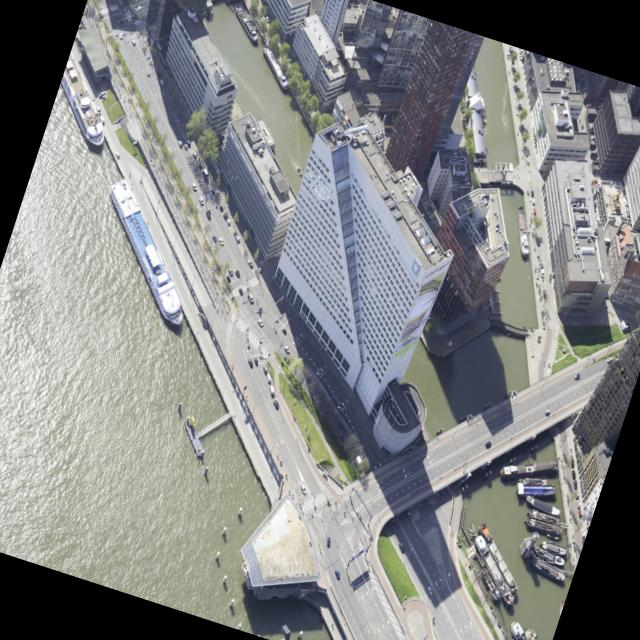large-vehicle: (353, 454, 365, 472), (201, 167, 210, 180), (95, 105, 101, 116)
ship: (107, 173, 187, 336), (476, 518, 520, 599), (473, 531, 516, 611), (499, 457, 561, 481), (262, 43, 290, 93), (233, 2, 260, 48), (529, 555, 567, 586), (524, 494, 562, 519), (254, 117, 278, 155), (532, 544, 567, 570), (523, 516, 563, 538), (480, 566, 502, 604), (516, 205, 530, 259), (515, 483, 558, 500), (527, 508, 562, 527), (539, 540, 568, 558), (518, 477, 549, 487), (244, 11, 258, 33), (546, 532, 560, 542), (296, 166, 303, 177), (470, 536, 478, 541), (470, 533, 477, 537), (511, 636, 515, 640)
small-vehicle: (247, 292, 255, 305), (398, 542, 406, 554), (425, 308, 432, 321), (268, 384, 275, 396), (312, 395, 320, 405), (334, 569, 341, 580), (300, 484, 307, 495), (272, 399, 279, 410), (98, 90, 106, 99), (198, 196, 205, 206), (191, 182, 198, 192), (218, 236, 225, 246), (283, 355, 290, 365), (227, 267, 234, 277), (257, 318, 264, 328), (283, 345, 290, 355), (247, 357, 253, 368), (580, 528, 586, 539), (266, 373, 272, 384), (328, 406, 335, 415), (117, 17, 124, 26), (247, 260, 254, 269), (338, 422, 345, 431), (338, 432, 345, 441), (235, 269, 241, 279), (485, 440, 492, 448), (576, 499, 581, 510), (177, 139, 183, 148), (99, 115, 105, 124), (212, 234, 218, 243), (235, 234, 241, 243), (226, 274, 232, 283), (238, 287, 244, 296), (359, 454, 365, 463), (263, 365, 268, 375), (326, 537, 331, 547), (391, 513, 396, 523), (571, 470, 576, 480), (573, 480, 578, 490), (130, 13, 137, 20), (426, 204, 433, 211), (428, 207, 435, 214), (134, 5, 141, 12), (606, 357, 613, 364), (218, 204, 224, 212), (222, 213, 228, 221), (582, 86, 588, 94), (186, 139, 191, 148), (254, 357, 259, 366), (156, 70, 161, 79), (330, 105, 336, 112), (281, 327, 287, 334), (574, 373, 580, 380), (545, 409, 551, 416), (115, 151, 120, 159), (265, 16, 270, 24), (192, 151, 197, 159), (288, 58, 293, 66), (307, 93, 312, 101), (310, 99, 315, 107), (313, 105, 318, 113), (294, 67, 299, 75), (226, 218, 231, 226), (539, 262, 544, 270), (325, 108, 331, 114), (575, 490, 579, 499), (131, 39, 136, 46), (160, 79, 165, 86), (183, 143, 188, 150), (198, 163, 203, 170), (296, 73, 301, 80), (579, 70, 584, 77), (580, 80, 585, 87), (119, 32, 123, 40), (263, 10, 267, 18), (516, 90, 520, 98), (530, 189, 534, 197), (531, 197, 535, 205), (578, 510, 582, 518), (123, 8, 128, 14), (227, 114, 232, 120), (571, 458, 574, 468), (211, 188, 215, 195), (299, 78, 303, 85), (302, 83, 306, 90), (305, 88, 309, 95), (285, 53, 289, 60), (526, 158, 530, 165), (518, 104, 522, 111), (519, 110, 523, 117), (521, 124, 525, 131), (207, 213, 211, 220), (533, 208, 537, 215), (534, 214, 537, 223), (537, 238, 540, 247), (541, 269, 544, 278), (228, 118, 233, 123), (604, 294, 609, 299), (341, 36, 347, 40), (515, 84, 519, 90), (585, 104, 591, 108), (587, 118, 593, 122), (543, 290, 546, 298), (582, 129, 585, 137), (589, 130, 595, 134), (589, 127, 595, 131), (514, 76, 517, 83), (575, 77, 578, 84), (522, 130, 525, 137), (511, 58, 514, 65), (536, 232, 539, 239), (350, 2, 355, 6), (591, 136, 596, 140), (347, 36, 352, 40), (598, 105, 603, 109), (100, 80, 103, 86), (353, 37, 359, 40), (581, 124, 584, 130), (525, 151, 528, 157), (577, 83, 580, 89), (578, 89, 581, 95), (358, 2, 362, 6), (512, 67, 515, 72), (256, 0, 260, 3), (604, 292, 608, 295), (511, 52, 513, 58)
